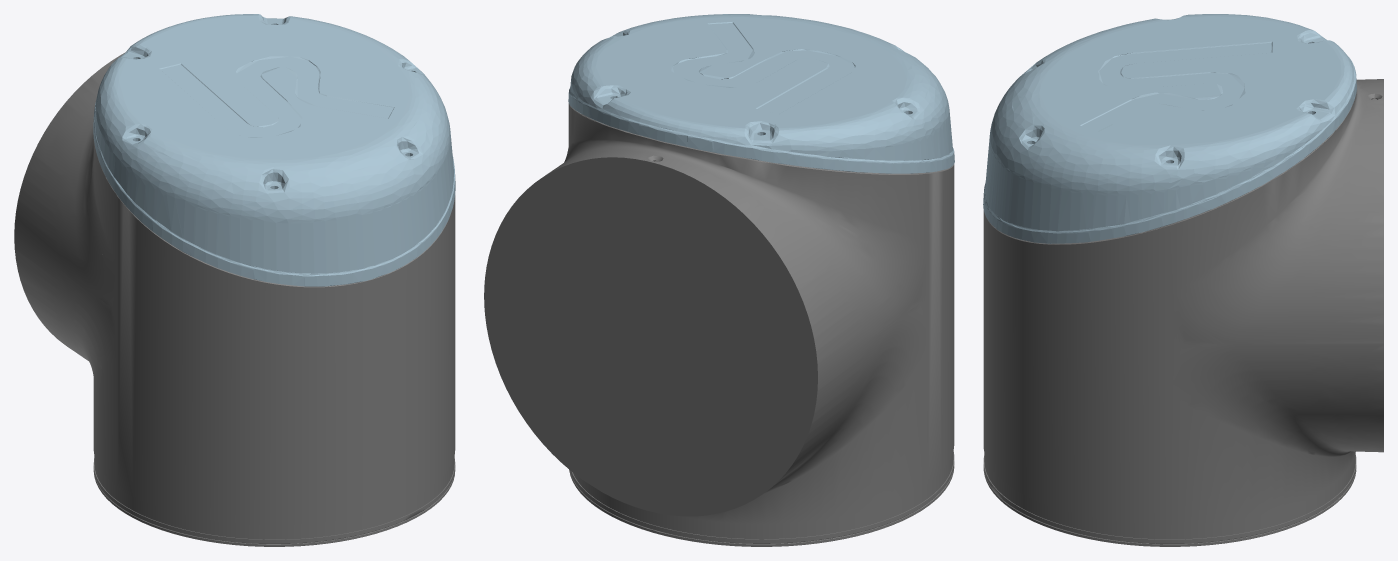
File: shoulder.dae
The picture shows the model from 3 angles, left to right: view 1: azimuth 30°, elevation 25°; view 2: azimuth 150°, elevation 25°; view 3: azimuth 270°, elevation 25°; orthographic projection. The views are drawn at different scales.
Visible parts, largest first — view 1: node-shape0-name, node-shape1-name; view 2: node-shape0-name, node-shape1-name; view 3: node-shape0-name, node-shape1-name.
Boxes of the visible parts, <box> form: node-shape0-name: <box>14,53,455,546</box>; node-shape1-name: <box>93,14,455,286</box>; node-shape0-name: <box>484,103,954,546</box>; node-shape1-name: <box>568,14,954,173</box>; node-shape0-name: <box>983,79,1383,546</box>; node-shape1-name: <box>983,14,1356,243</box>.
Bounding box in the file's own units: 0.1503 × 0.1612 × 0.1772.
